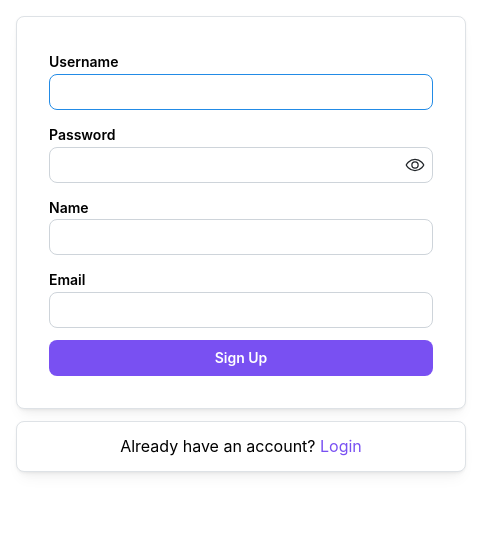
Test case: Signup › shows error alert when any required field is missing
This screenshot has width=483, height=557.
Note: Submit with only username filled — other fields empty
Type "alice" into the field labelled "Username".
click(241, 92); type("alice")  # box [49,74,433,110]
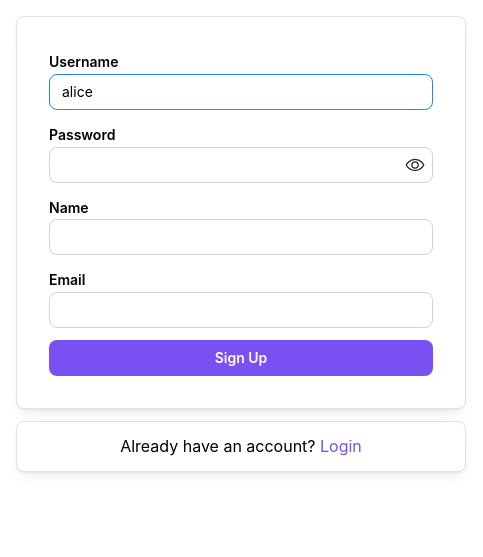
Click the button "Sign Up".
click(241, 358)  # box [49,340,433,376]
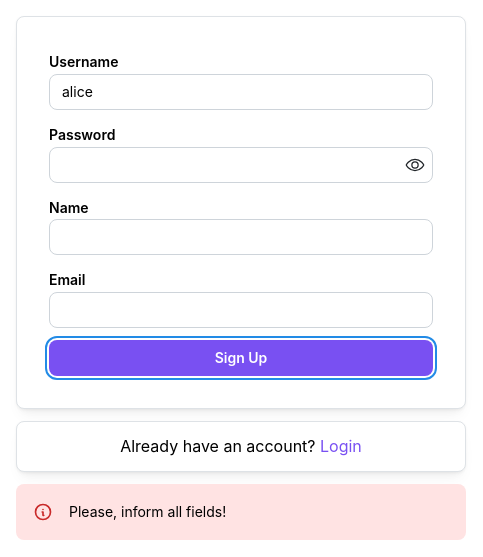
Check: the message "Please, inform all fields!" is shown, box [16,484,466,540]
